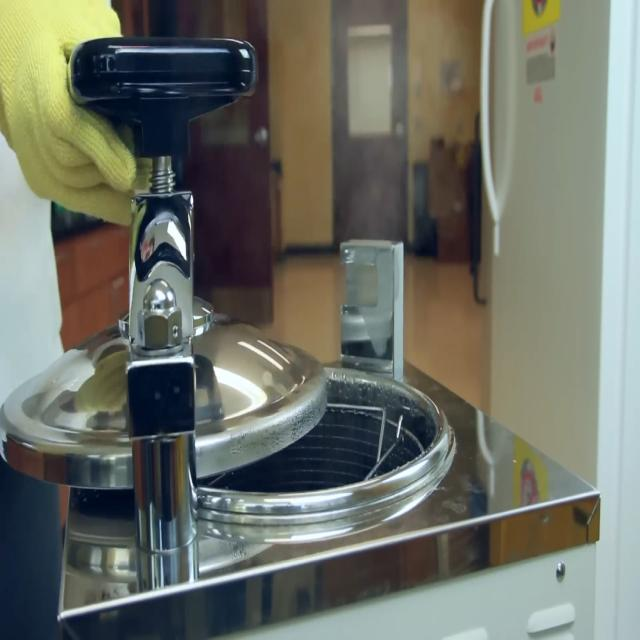labcoat: (0, 115, 79, 468)
